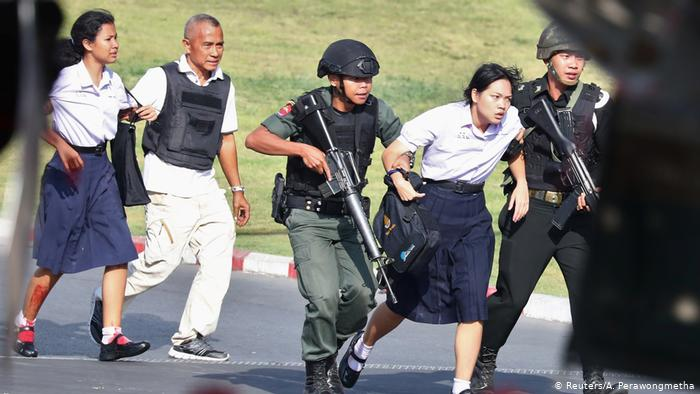Person: (242, 35, 384, 394), (15, 8, 150, 368), (390, 56, 525, 394), (511, 18, 619, 394), (138, 14, 250, 362)
